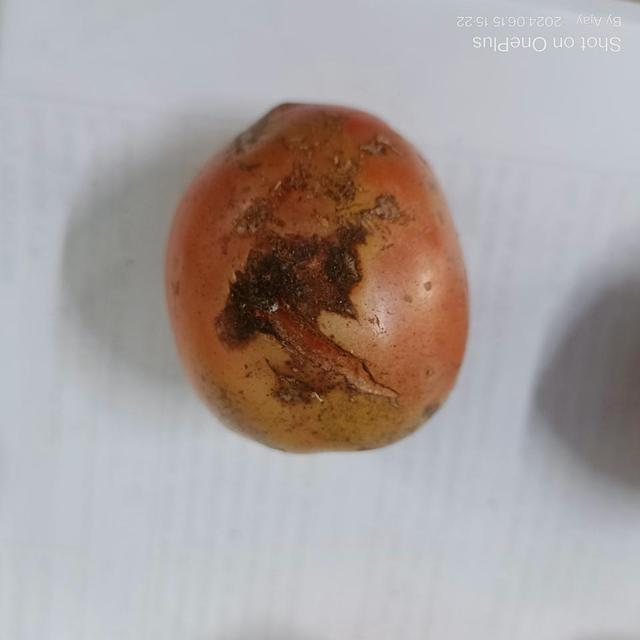Cracking Fruit: (59, 91, 290, 347)
